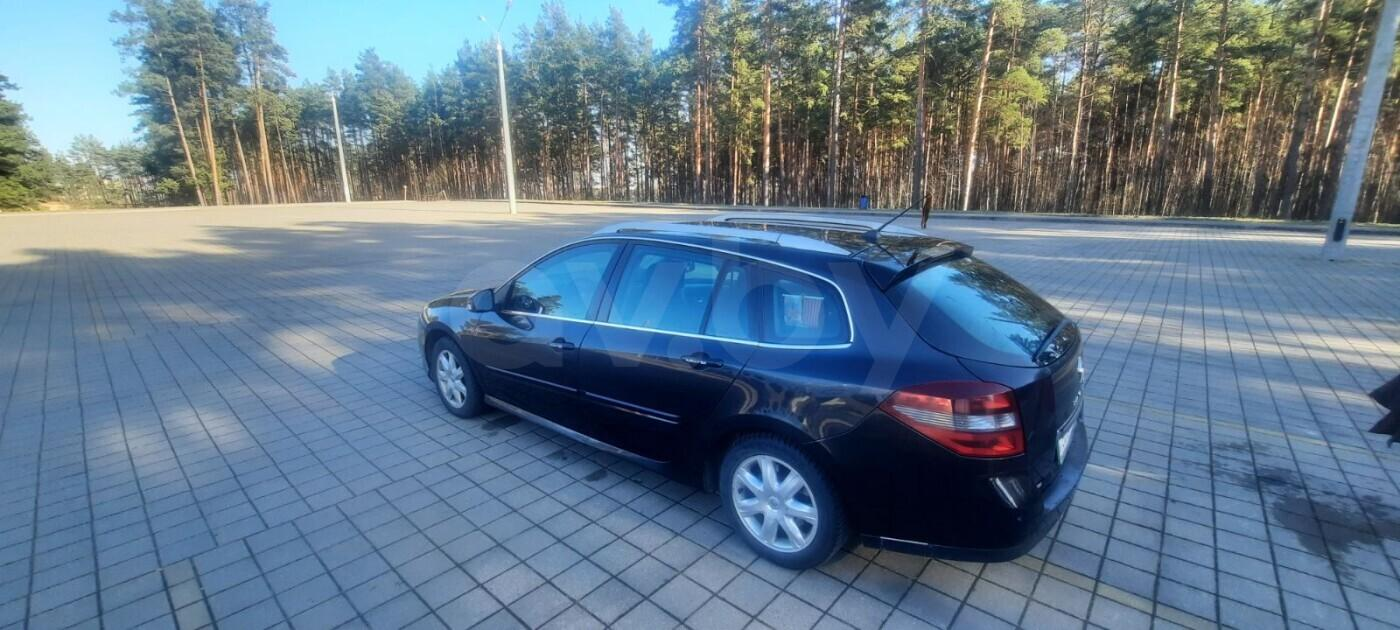Laguna_2007-2011: (416, 213, 1086, 567)
